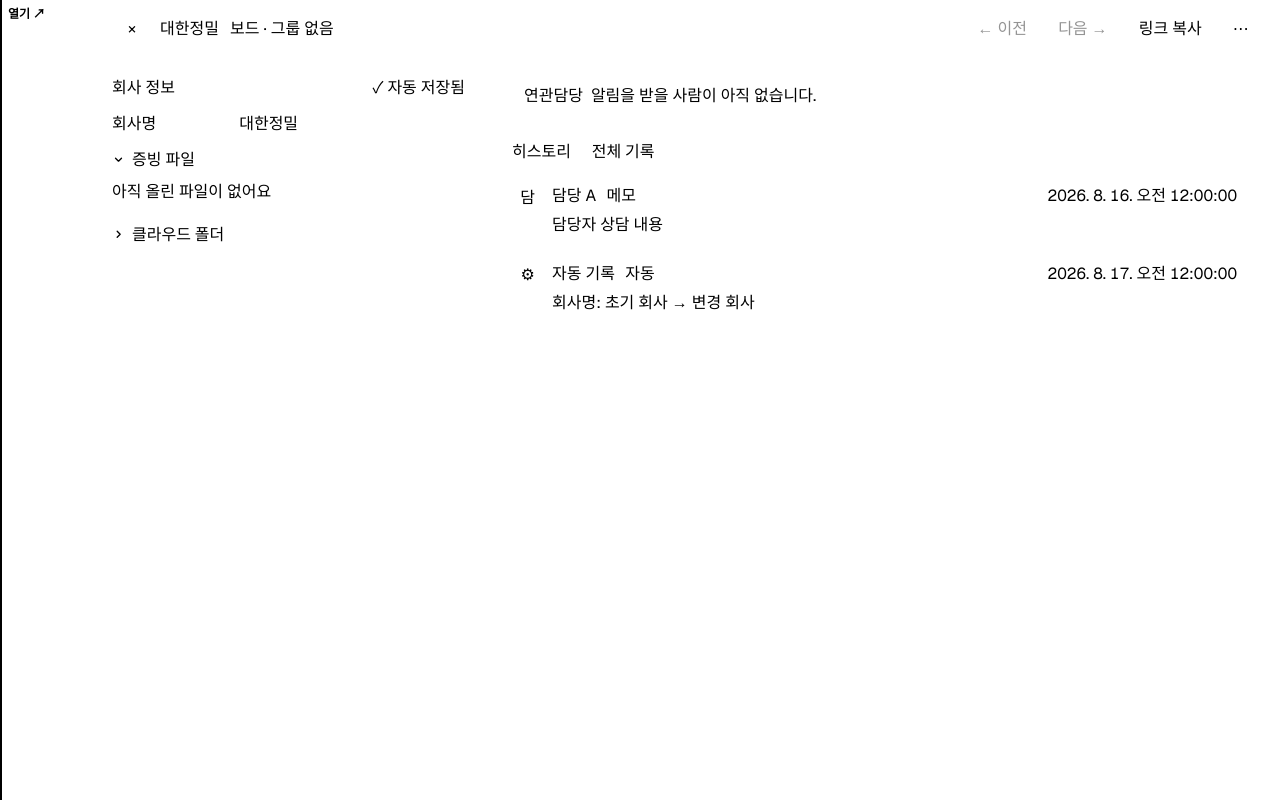
Test: 히스토리는 대화와 실제 변경을 기본으로 보여 주고 전체 기록에서 최초 입력을 확인한다
expect the element that starts with "히스토리" shows "담당자 상담 내용": met, box [552,214,663,235]
expect the element that starts with "히스토리" shows "회사명: 초기 회사 → 변경 회사": met, box [552,292,755,313]
Click the button "전체 기록" at [623, 152], box [580,136,666,168]
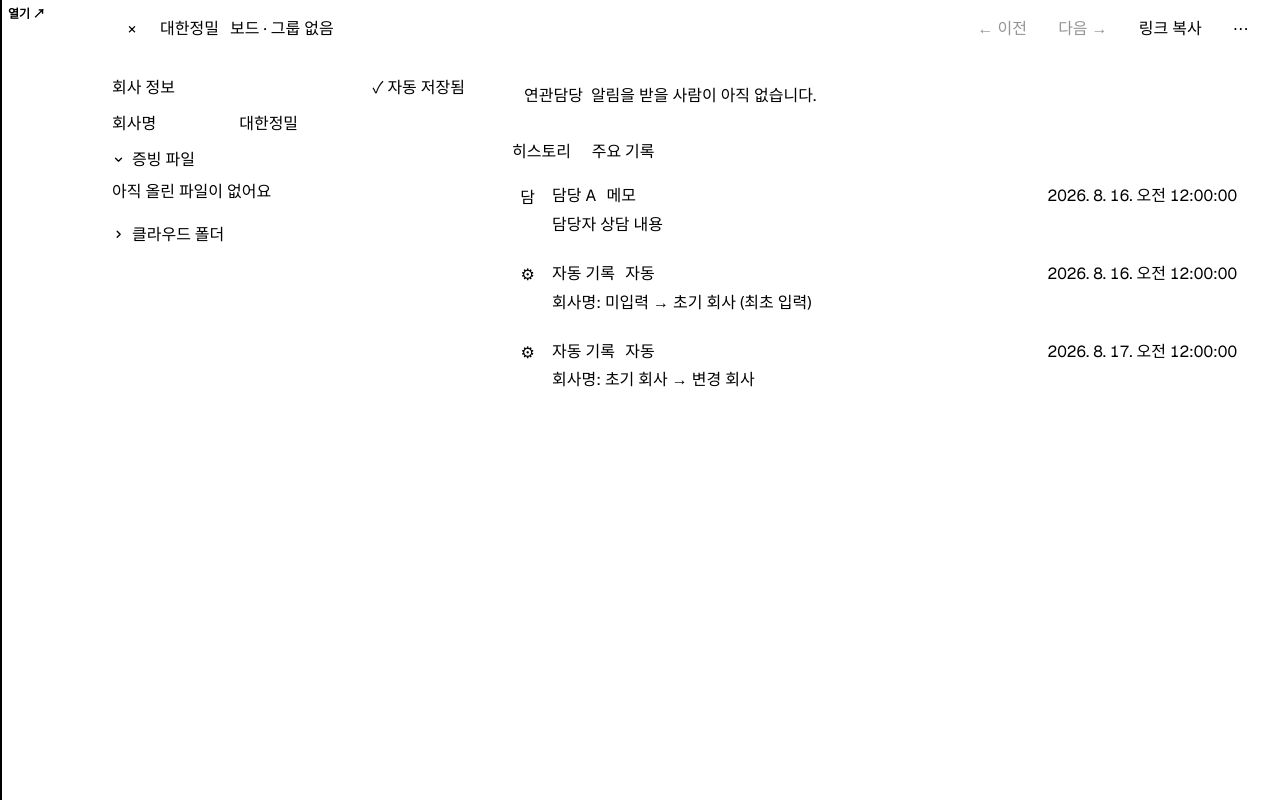
expect the element that starts with "히스토리" shows "회사명: 미입력 → 초기 회사 (최초 입력)": met, box [552,292,812,313]
Click the button "주요 기록" at [623, 152], box [580,136,666,168]
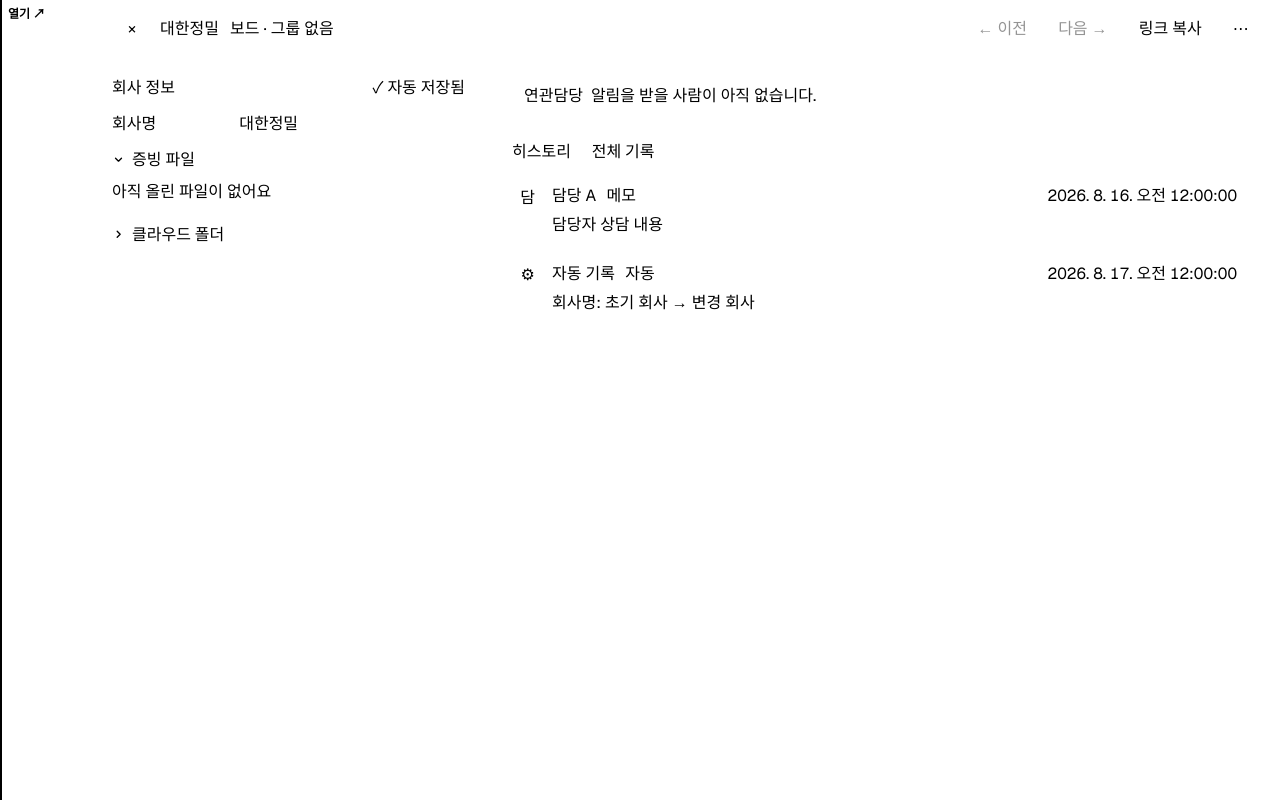
expect the text "최초 입력" is gone: met
